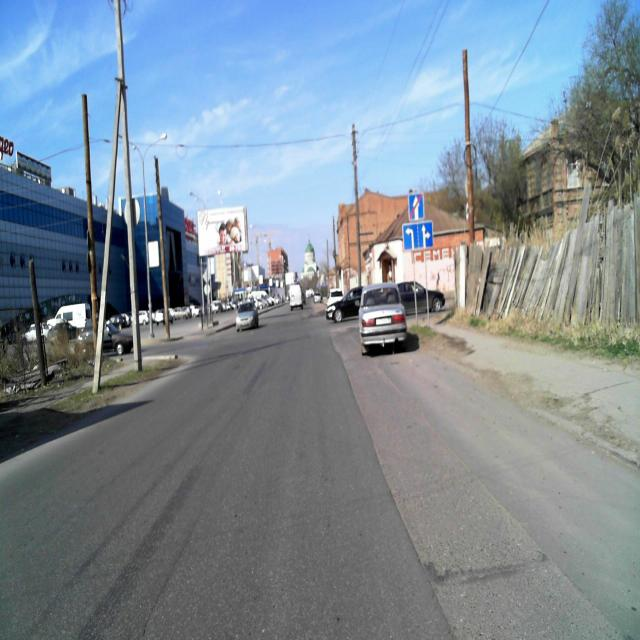road sign: (402, 222, 433, 249), (409, 193, 424, 220)
